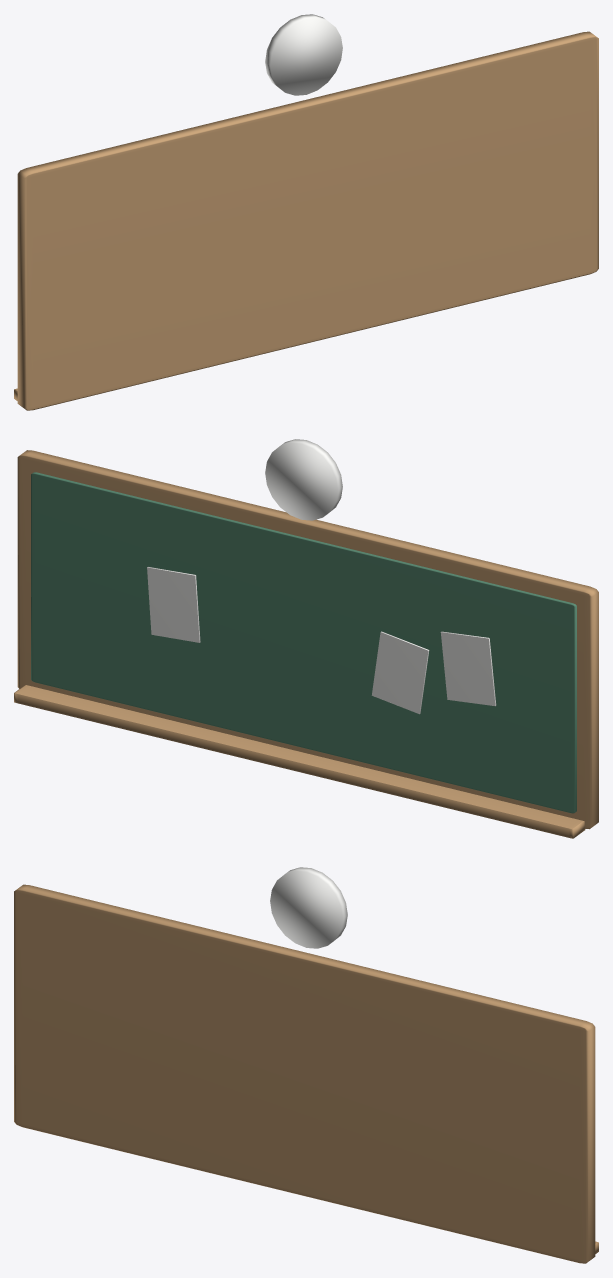
File: SM_School_ChalkboardWall.fbx
3 views of the same model, one above another, from view 1: azimuth 30°, elevation 25°; view 2: azimuth 150°, elevation 25°; view 3: azimuth 330°, elevation 25° (orthographic).
Parts seen in each view (by area): view 1: SM_School_ChalkboardWall; view 2: SM_School_ChalkboardWall; view 3: SM_School_ChalkboardWall.
Boxes of the visible parts, x1,y1,x2,y2 form: SM_School_ChalkboardWall: (14, 14, 598, 410); SM_School_ChalkboardWall: (14, 439, 598, 838); SM_School_ChalkboardWall: (14, 867, 598, 1263).
Size of the model in its own units: 3.8 by 2.03 by 0.21.
